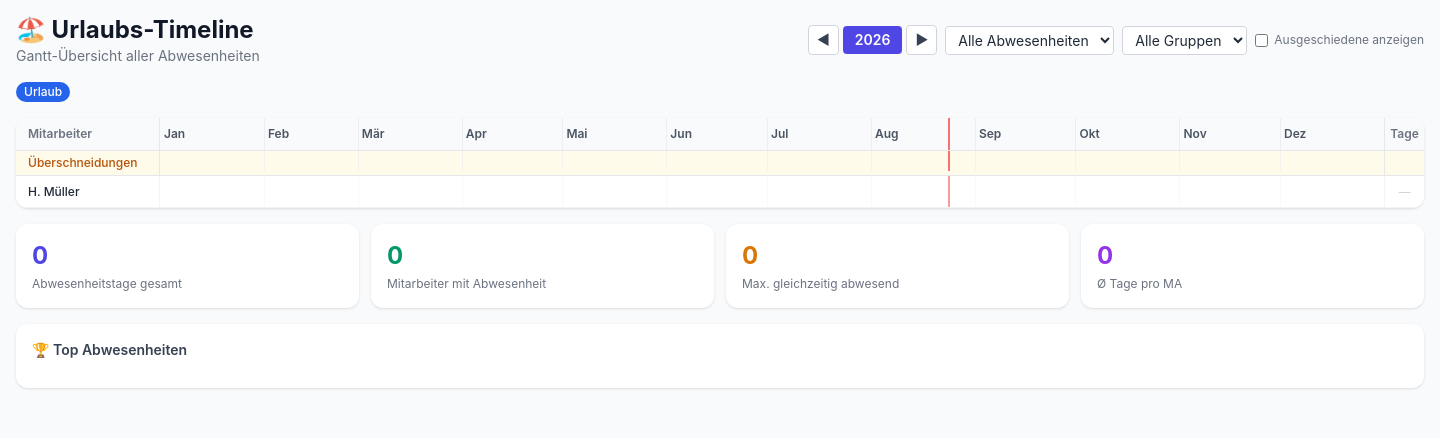
Scenario: UrlaubsTimeline — Gruppenfilter › Ehemalige (Austritt vor dem Jahr) sind standardmäßig ausgeblendet; Toggle zeigt sie (Befund 27)
Expected: the text "H. Müller" is shown, [28, 184, 80, 200]
Expected: the text "E. Ehemalig" is not shown
Click the checkbox labelled "Ausgeschiedene anzeigen".
click(1262, 40)  # box [1255, 34, 1268, 46]
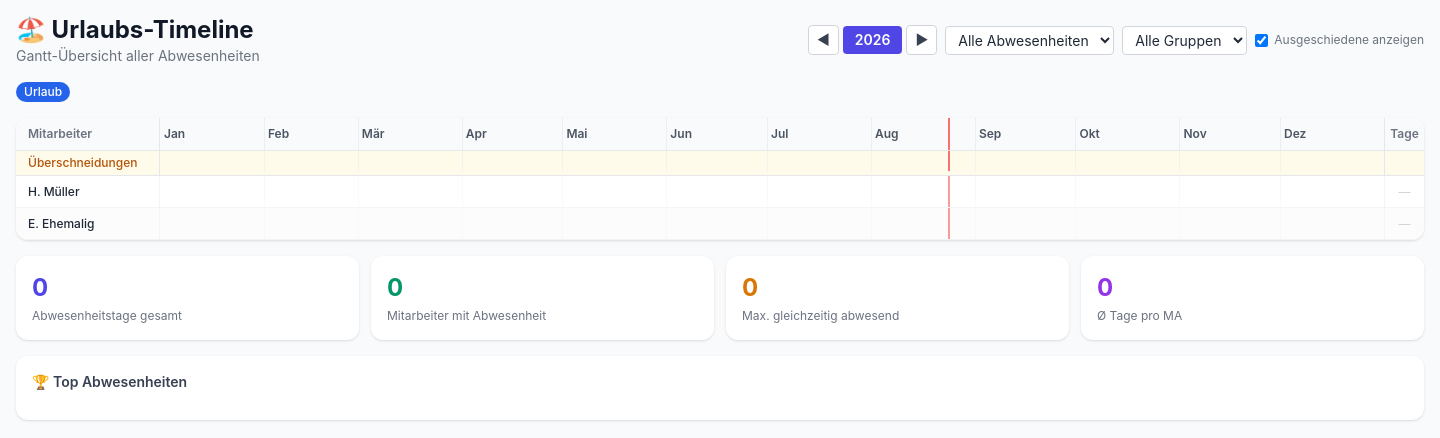
Expected: the text "E. Ehemalig" is shown, [28, 216, 94, 232]
